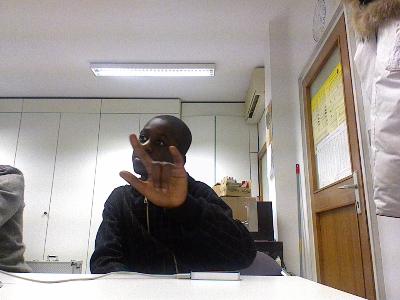我爱你: (118, 132, 188, 208)
